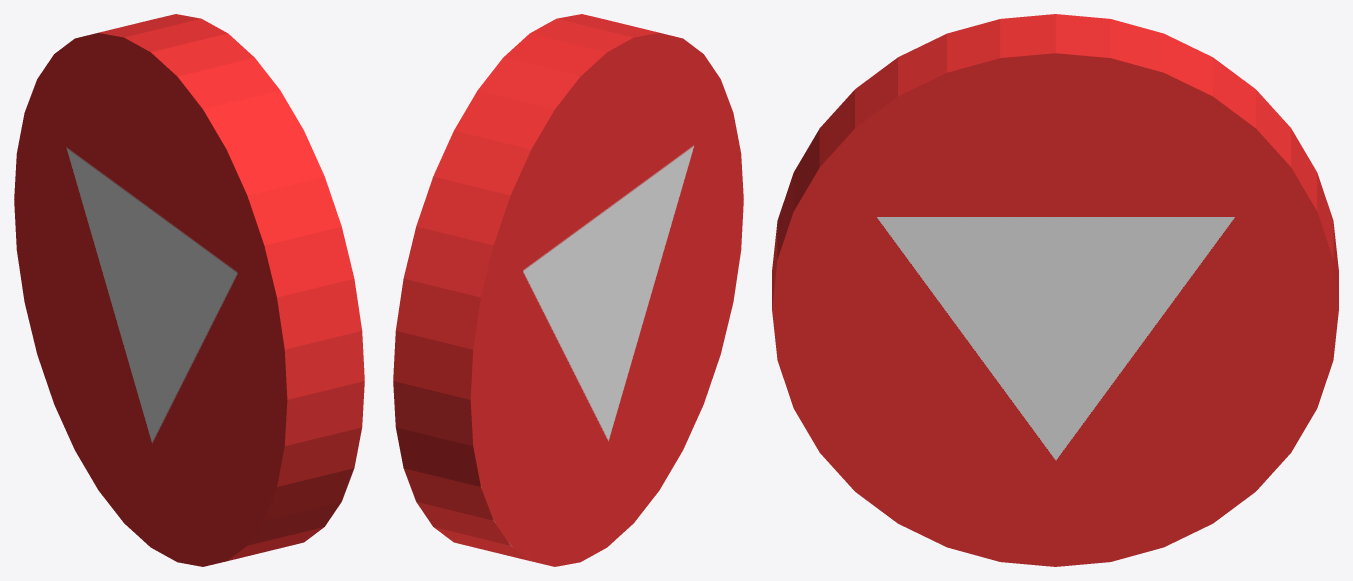
Rendered from arrow.glb.
The picture shows the model from 3 angles, left to right: view 1: azimuth 30°, elevation 25°; view 2: azimuth 150°, elevation 25°; view 3: azimuth 270°, elevation 25°; orthographic projection. The views are drawn at different scales.
Parts seen in each view (by area): view 1: Cylinder; view 2: Cylinder; view 3: Cylinder.
Boxes of the visible parts, x1,y1,x2,y2 form: Cylinder: (14,14,364,566); Cylinder: (393,14,743,566); Cylinder: (772,14,1338,566).
Size of the model in its own units: 0.3273 by 2 by 2.
1 material, 1 textured.
